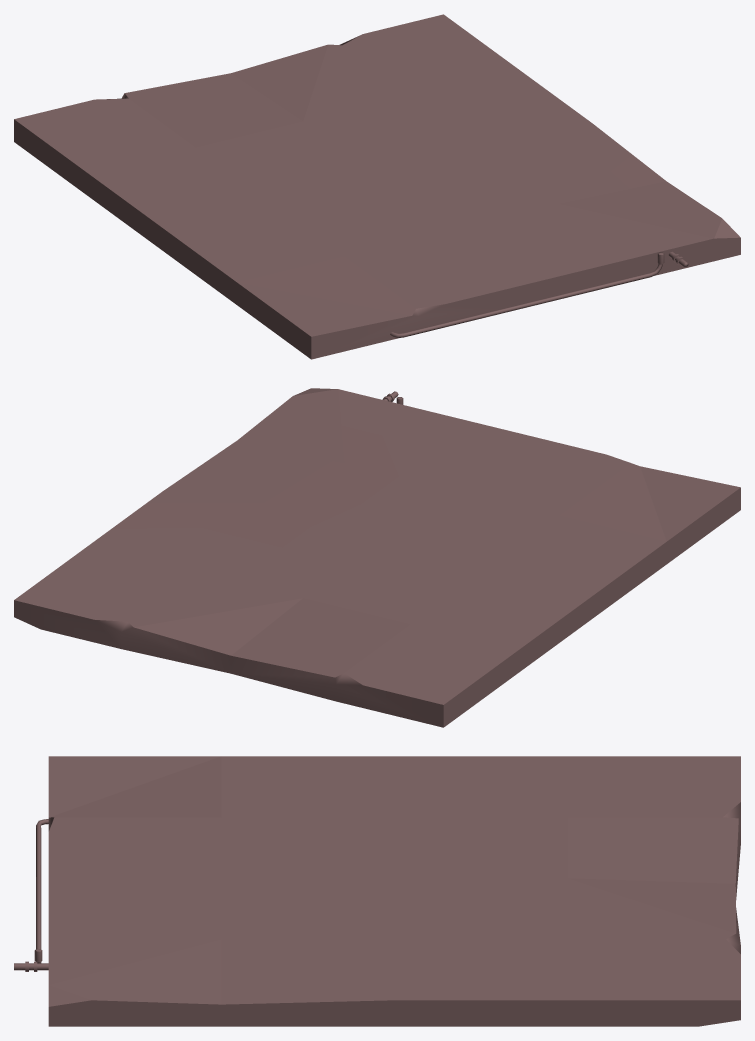
The model's file is concreteFloor2_LP.fbx.
3 views of the same model, one above another, from view 1: azimuth 30°, elevation 25°; view 2: azimuth 150°, elevation 25°; view 3: azimuth 270°, elevation 25° (orthographic). The views are drawn at different scales.
Visible parts, largest first — view 1: cFloor7_LP, cFloor9_LP; view 2: cFloor7_LP; view 3: cFloor7_LP, cFloor9_LP.
Boxes of the visible parts, x1,y1,x2,y2 form: cFloor7_LP: (14, 14, 740, 359); cFloor9_LP: (390, 251, 688, 338); cFloor7_LP: (14, 388, 740, 727); cFloor7_LP: (48, 756, 740, 1026); cFloor9_LP: (14, 819, 48, 971).
Size of the model in its own units: 799 by 43.75 by 1006.
